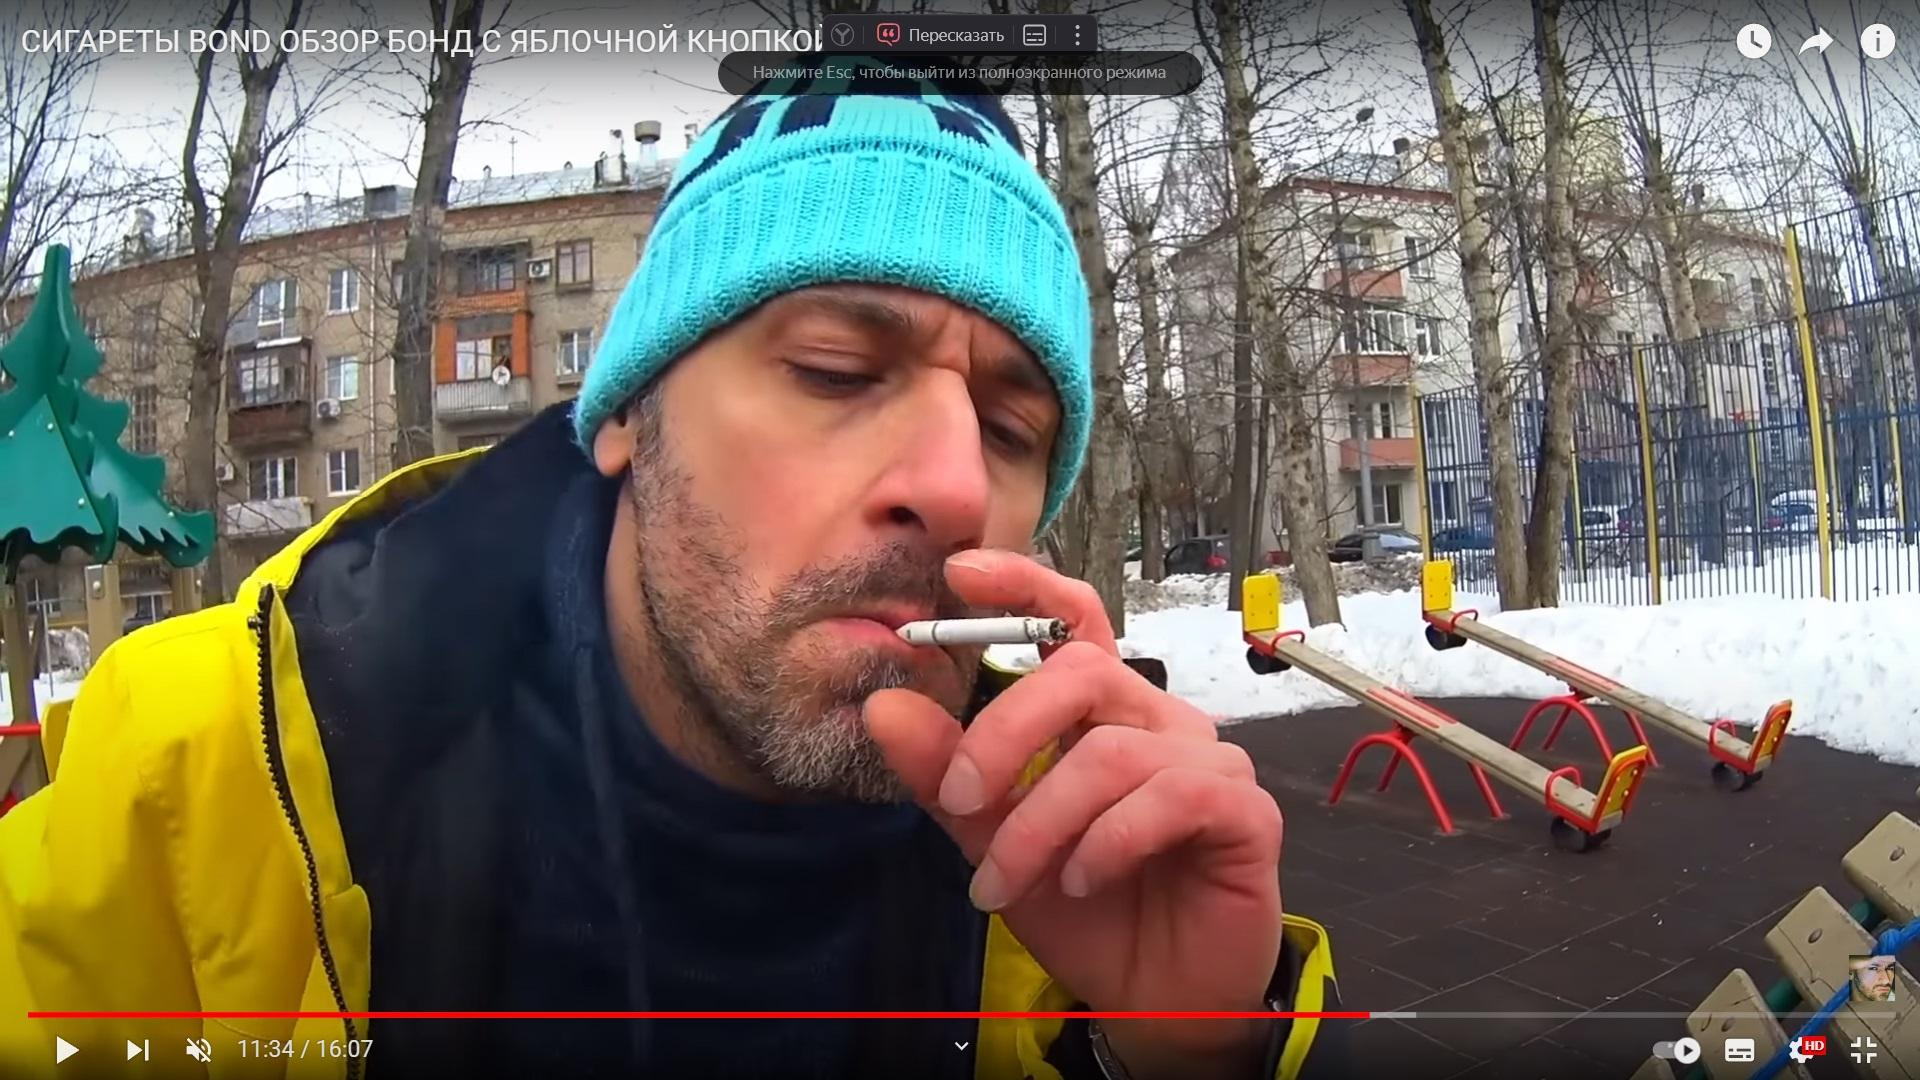cigarette: (893, 617, 1072, 646)
